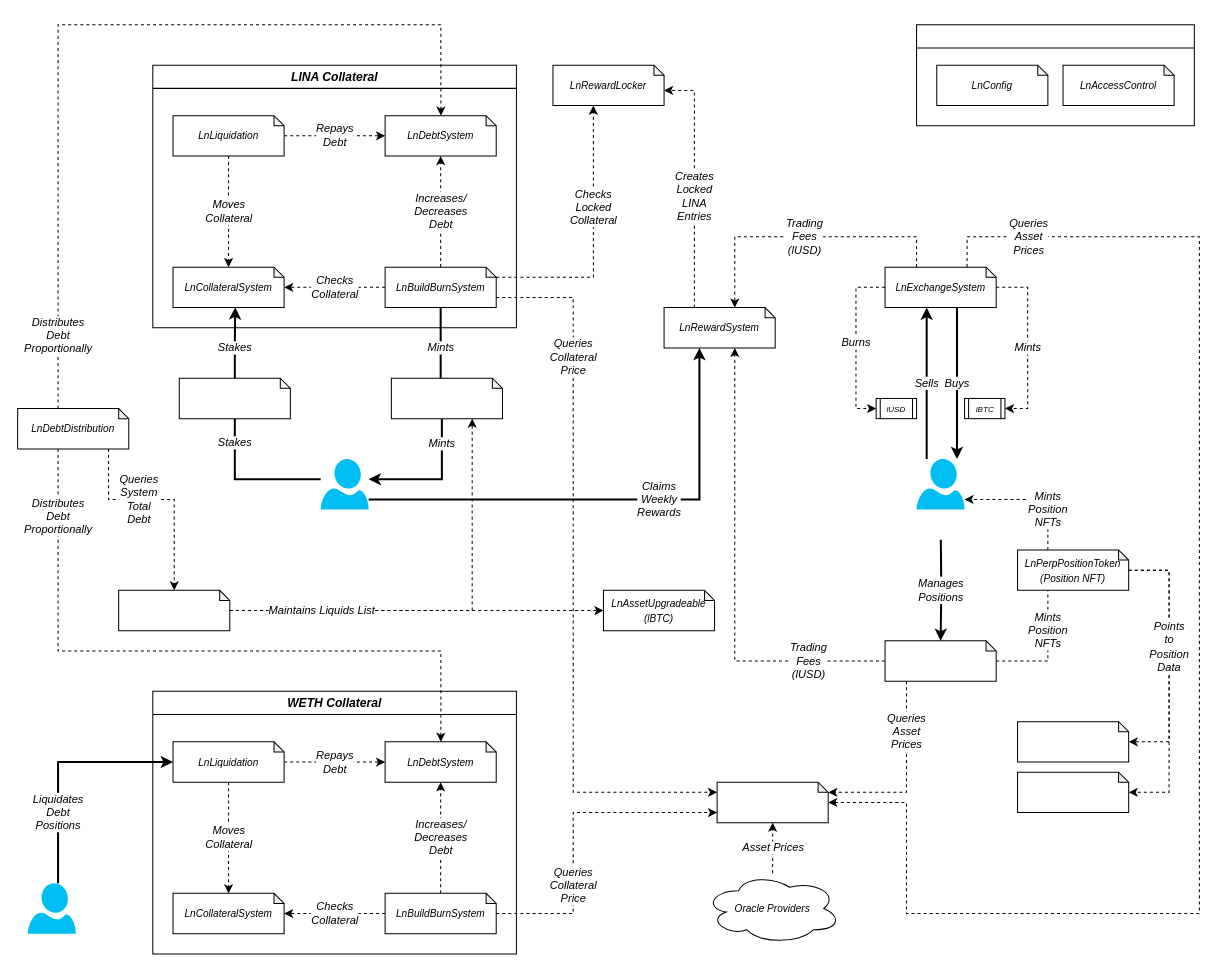
Image size: 1225x973. Some labels were removed from this diagram. The shapes that lost their labels are listed below. From the top down, each one's box as (x1, y1, x2, y2) in pixels, then its label:
(916, 24, 1194, 126): Global Utility Contracts
(178, 377, 290, 419): LinearFinance
(390, 377, 502, 419): LnAssetUpgradeable (lUSD)
(320, 459, 368, 509): Builder
(916, 459, 964, 509): Trader
(118, 589, 230, 631): LnAssetSystem
(884, 640, 996, 681): LnPerpExchange
(1017, 721, 1129, 762): LnPerpetual (lBTC)
(716, 781, 828, 823): LnOracleRouter
(1017, 771, 1129, 813): LnPerpetual (lEUR)
(27, 883, 75, 933): Liquidator
